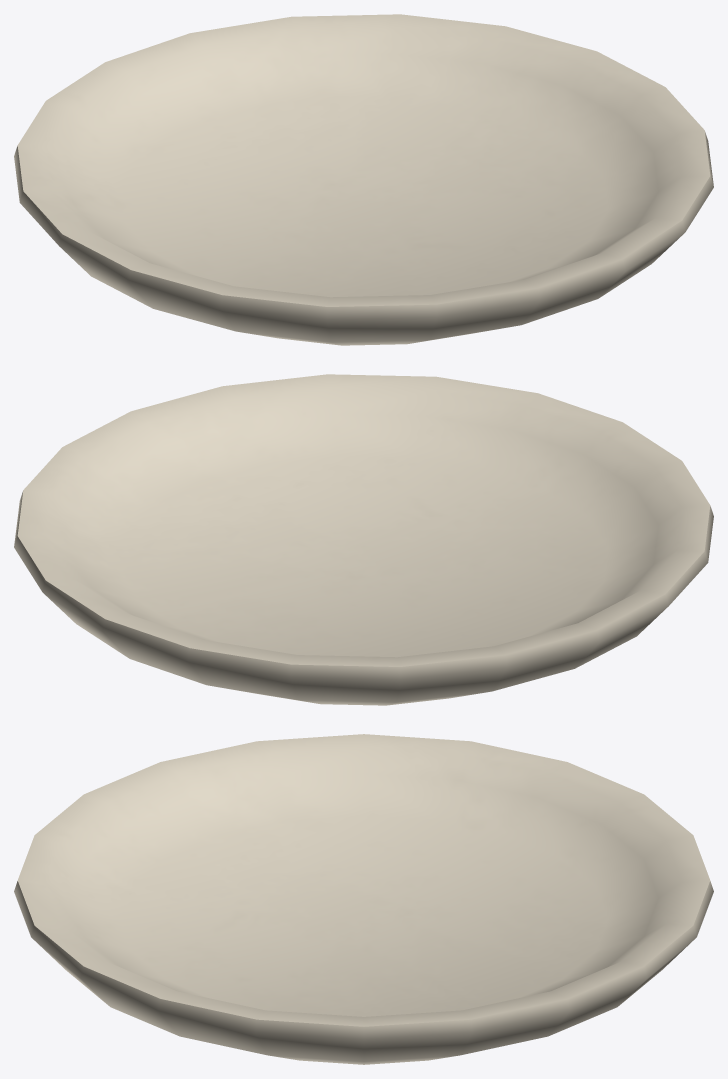
The model's file is PlateA.fbx.
3 views of the same model, one above another, from view 1: azimuth 30°, elevation 25°; view 2: azimuth 150°, elevation 25°; view 3: azimuth 270°, elevation 25° (orthographic).
Visible parts, largest first — view 1: Plate for the second; view 2: Plate for the second; view 3: Plate for the second.
Boxes of the visible parts, left/top/right/bottom form: Plate for the second: left=14, top=14, right=713, bottom=345; Plate for the second: left=14, top=374, right=713, bottom=705; Plate for the second: left=14, top=734, right=713, bottom=1064.
Bounding box in the file's own units: 13.08 × 1.99 × 13.08.
